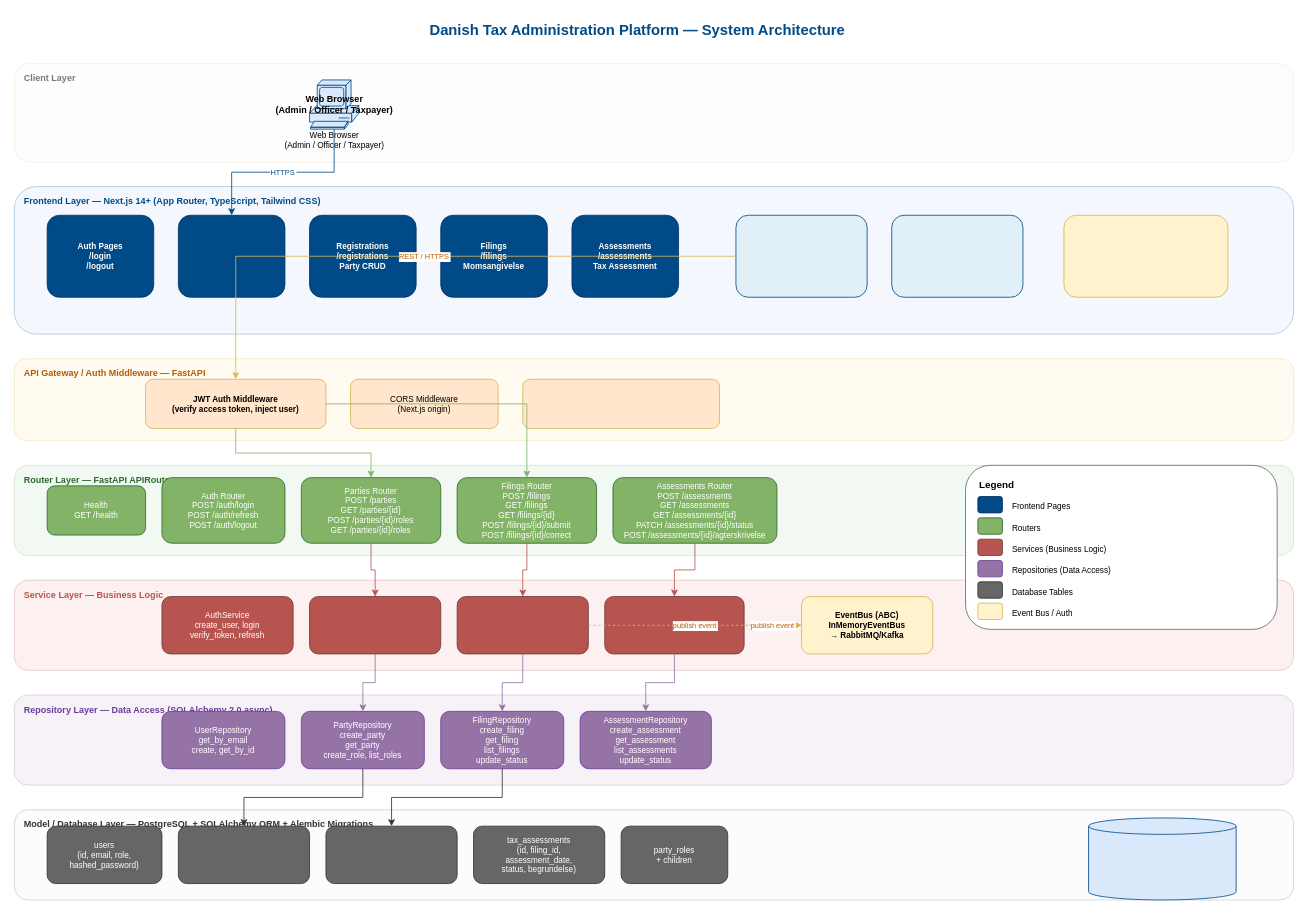
This 1308x914 diagram has some shape labels left out. Each missing label, with the centre of its shape:
AssessmentService create_assessment update_status send_agterskrivelse: the point at 674,625
Dashboard /dashboard Stats + Overview: the point at 231,255
filings (rubrik_a–e, momstilsvar, status, frist, kvitteringsnummer): the point at 391,854
FilingService create_filing submit_filing list_filings korrektionsangivelse: the point at 522,625
HttpOnly Cookies access_token (15 min) refresh_token (7 days): the point at 1145,255
parties + children (id, cvr_nummer, se_nummer, type, afregningsperiode): the point at 244,854
PostgreSQL 15: the point at 1162,858
RegistrationService register_party get_party assign_role, list_roles: the point at 375,625
Role Guard require_role(admin|officer|taxpayer): the point at 621,403
Typed API Client (fetch + Pydantic- aligned interfaces): the point at 801,255
Zustand Store (auth state, user session): the point at 957,255
